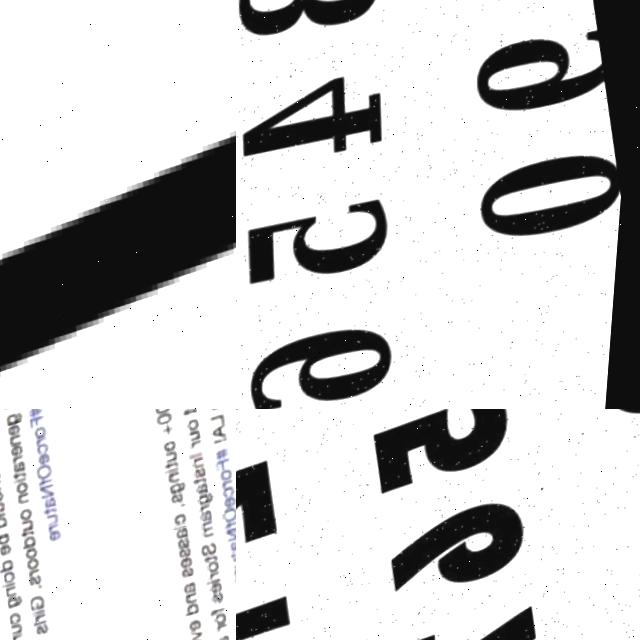0: (435, 133, 630, 293), (157, 421, 176, 436), (156, 411, 174, 425), (154, 409, 172, 414)
1: (236, 582, 309, 640)
3: (236, 0, 402, 80)
4: (236, 52, 413, 203)
5: (236, 173, 412, 322), (353, 409, 538, 513)
6: (366, 493, 550, 623), (236, 295, 428, 409)
7: (390, 604, 568, 640)
8: (436, 0, 594, 34)
9: (440, 16, 615, 159)
A: (211, 434, 231, 453), (197, 493, 214, 507), (202, 520, 218, 534), (178, 537, 195, 550), (16, 467, 31, 480), (46, 503, 61, 516), (188, 592, 203, 605), (233, 550, 236, 563)
B: (0, 537, 14, 552)
C: (37, 449, 52, 462), (177, 523, 192, 536), (223, 495, 236, 509)
D: (2, 565, 21, 580), (187, 613, 205, 628), (23, 543, 41, 557), (0, 521, 12, 536)
E: (213, 592, 229, 606), (2, 550, 17, 563), (13, 450, 28, 463), (40, 459, 55, 472), (183, 566, 198, 579), (9, 430, 23, 443), (53, 537, 67, 550), (193, 629, 208, 640), (226, 506, 236, 520)
F: (30, 422, 48, 437), (217, 469, 236, 482), (214, 618, 232, 628), (39, 485, 56, 495), (226, 531, 236, 541)
G: (31, 600, 51, 621), (6, 416, 28, 432), (199, 501, 218, 518), (10, 601, 30, 617), (172, 490, 191, 505)
H: (0, 486, 7, 500)
I: (166, 475, 184, 486), (189, 461, 208, 470), (210, 587, 227, 597), (15, 482, 31, 491), (4, 588, 21, 596), (35, 616, 51, 624), (206, 409, 223, 413)
L: (0, 48, 236, 409), (210, 424, 229, 441), (36, 627, 53, 635), (175, 534, 191, 542), (0, 517, 10, 525)
M: (203, 530, 220, 551)
N: (39, 491, 60, 507), (188, 602, 205, 617), (193, 466, 209, 480), (8, 592, 23, 606), (20, 498, 34, 512), (170, 481, 185, 494), (10, 441, 24, 454), (227, 536, 236, 555), (211, 409, 225, 421)
O: (37, 470, 57, 489), (29, 563, 46, 579), (28, 552, 43, 568), (35, 431, 50, 447), (223, 517, 236, 535), (165, 447, 180, 462), (188, 427, 203, 442), (219, 624, 234, 638), (211, 570, 225, 584), (222, 479, 236, 493), (14, 617, 27, 632), (18, 488, 33, 501), (22, 515, 37, 528), (6, 578, 20, 591), (0, 496, 7, 509)
R: (202, 515, 216, 525), (14, 461, 28, 470), (32, 576, 46, 585), (40, 621, 54, 630), (212, 582, 226, 591), (37, 444, 50, 453), (52, 530, 65, 539), (193, 451, 204, 460), (225, 490, 236, 499), (220, 635, 234, 640)
S: (204, 552, 224, 570), (179, 547, 196, 561), (180, 557, 197, 571), (173, 501, 189, 515), (195, 477, 211, 491), (215, 603, 230, 616), (185, 577, 199, 590), (33, 582, 47, 594), (40, 631, 55, 640), (0, 475, 4, 488)
T: (22, 536, 40, 546), (165, 470, 183, 480), (195, 487, 212, 497), (207, 565, 224, 575), (184, 416, 200, 426), (16, 477, 31, 487), (46, 513, 61, 523), (1, 409, 19, 417), (233, 560, 236, 571)
U: (24, 525, 39, 538), (167, 461, 182, 474), (190, 440, 205, 453), (49, 521, 63, 534), (15, 629, 29, 640), (0, 506, 11, 519), (184, 409, 199, 418), (0, 460, 3, 473)
